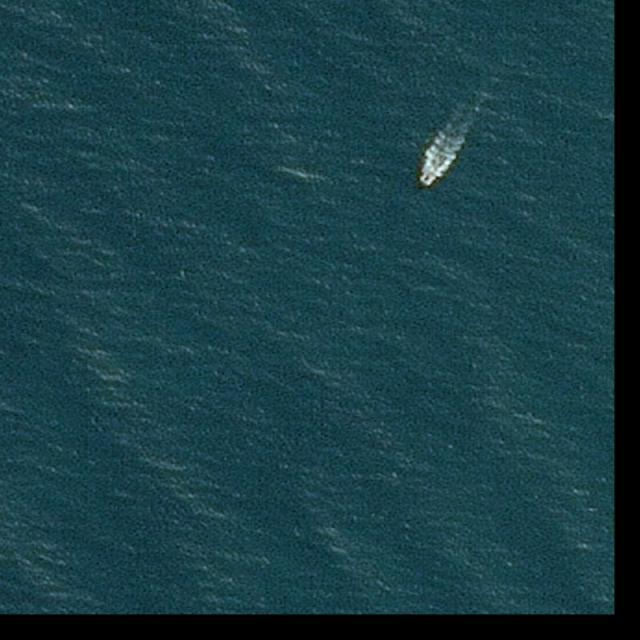ship: (422, 173, 433, 185)
